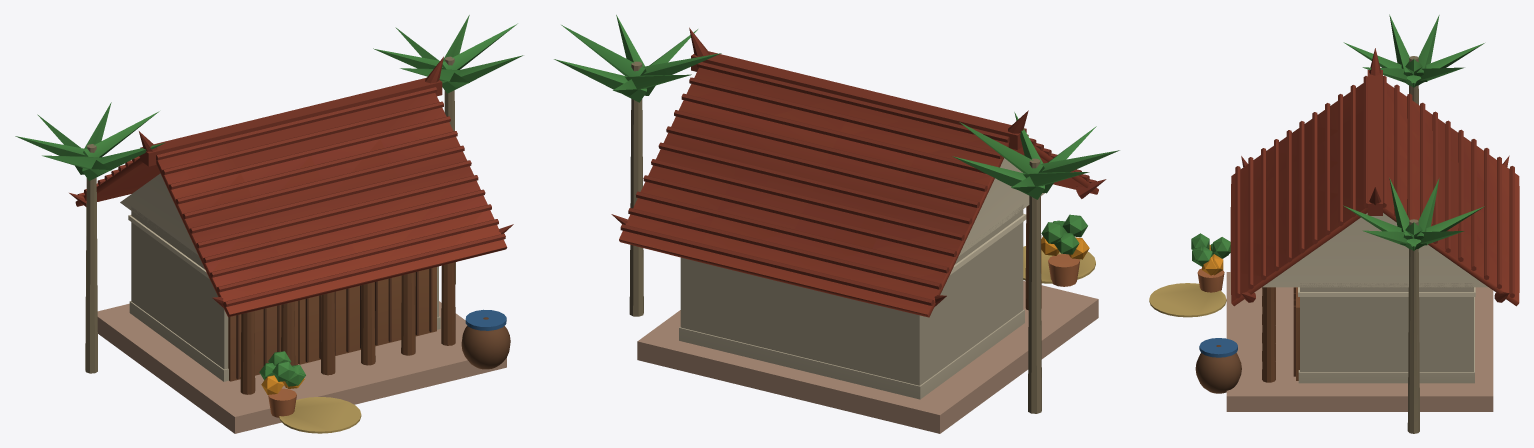
Rendered from hs-1gpy85v.glb.
3 renders of one model, left to right at view 1: azimuth 30°, elevation 25°; view 2: azimuth 150°, elevation 25°; view 3: azimuth 270°, elevation 25°, orthographic. The views are drawn at different scales.
Size of the model in its own units: 13.71 by 6.65 by 9.59.
